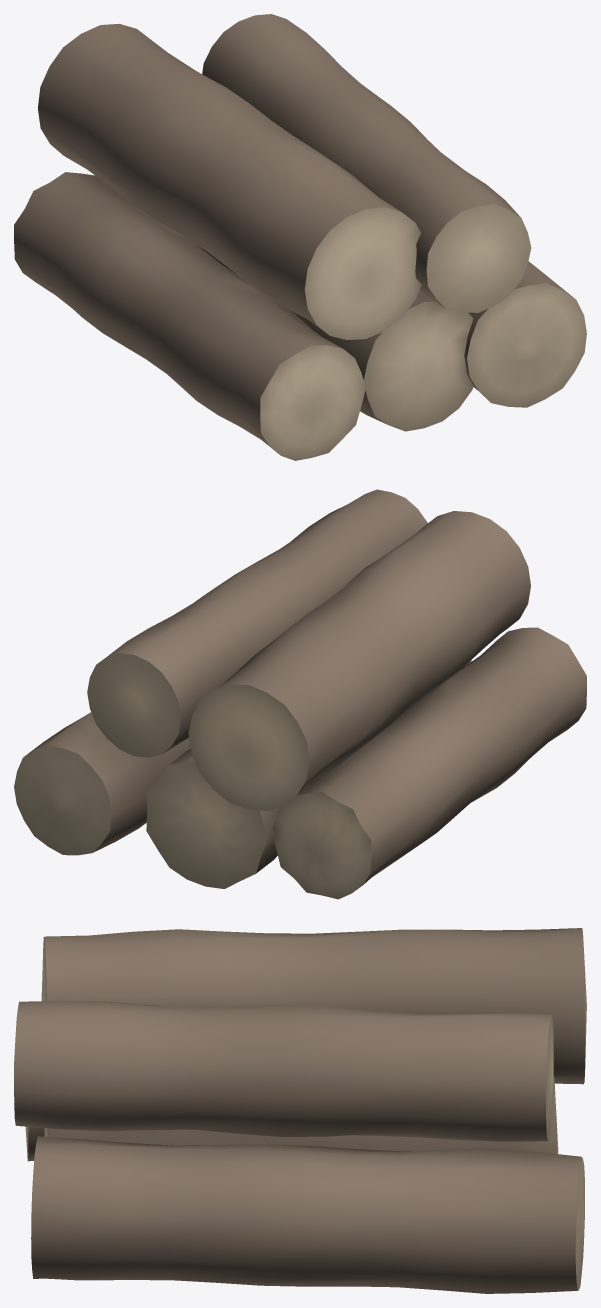
File: wood.glb
3 renders of one model, top to bottom at view 1: azimuth 30°, elevation 25°; view 2: azimuth 150°, elevation 25°; view 3: azimuth 270°, elevation 25°, orthographic. The views are drawn at different scales.
Visible parts, largest first — view 1: Body_lod0; view 2: Body_lod0; view 3: Body_lod0.
Boxes of the visible parts, x1=… form: Body_lod0: x1=14, y1=14, x2=586, y2=460; Body_lod0: x1=14, y1=489, x2=586, y2=899; Body_lod0: x1=14, y1=928, x2=586, y2=1293.
Size of what is drawn, in the model's own units: 0.3467 by 0.2211 by 0.4404.
